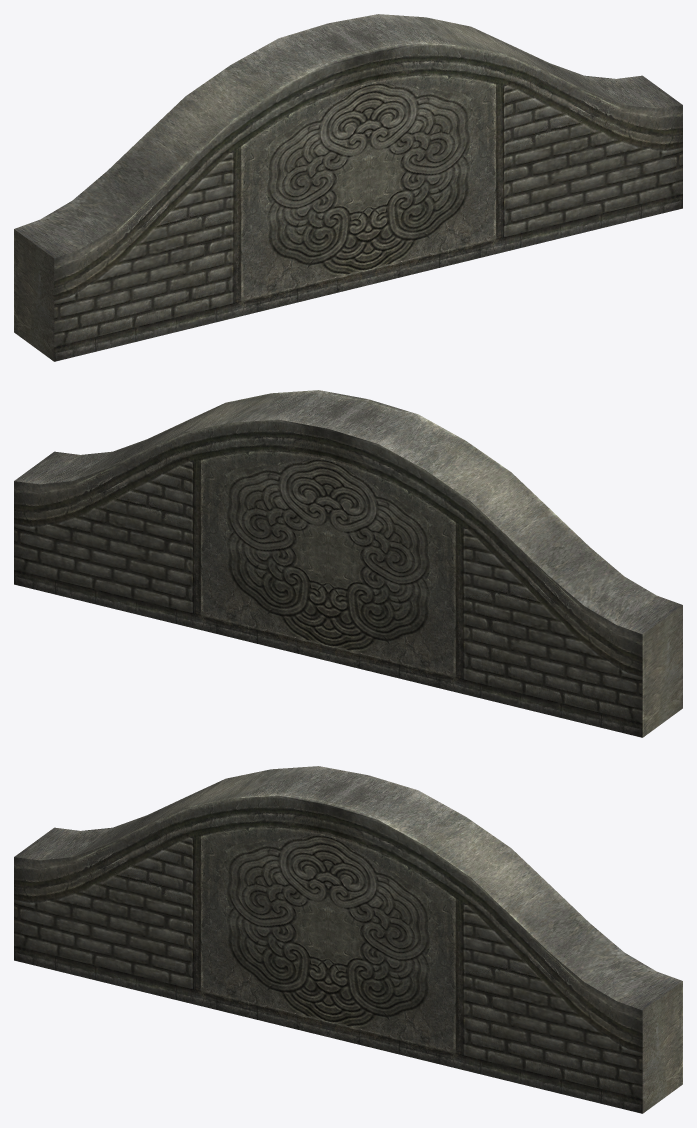
File: 4st_wall_002.fbx
3 renders of one model, top to bottom at view 1: azimuth 30°, elevation 25°; view 2: azimuth 150°, elevation 25°; view 3: azimuth 330°, elevation 25°, orthographic.
Visible parts, largest first — view 1: 2st_wall_001; view 2: 2st_wall_001; view 3: 2st_wall_001.
Boxes of the visible parts, bbox=[...] form: 2st_wall_001: bbox=[14, 14, 682, 361]; 2st_wall_001: bbox=[14, 390, 682, 737]; 2st_wall_001: bbox=[14, 766, 682, 1113].
Size of the model in its own units: 12.58 by 4.45 by 1.4.
